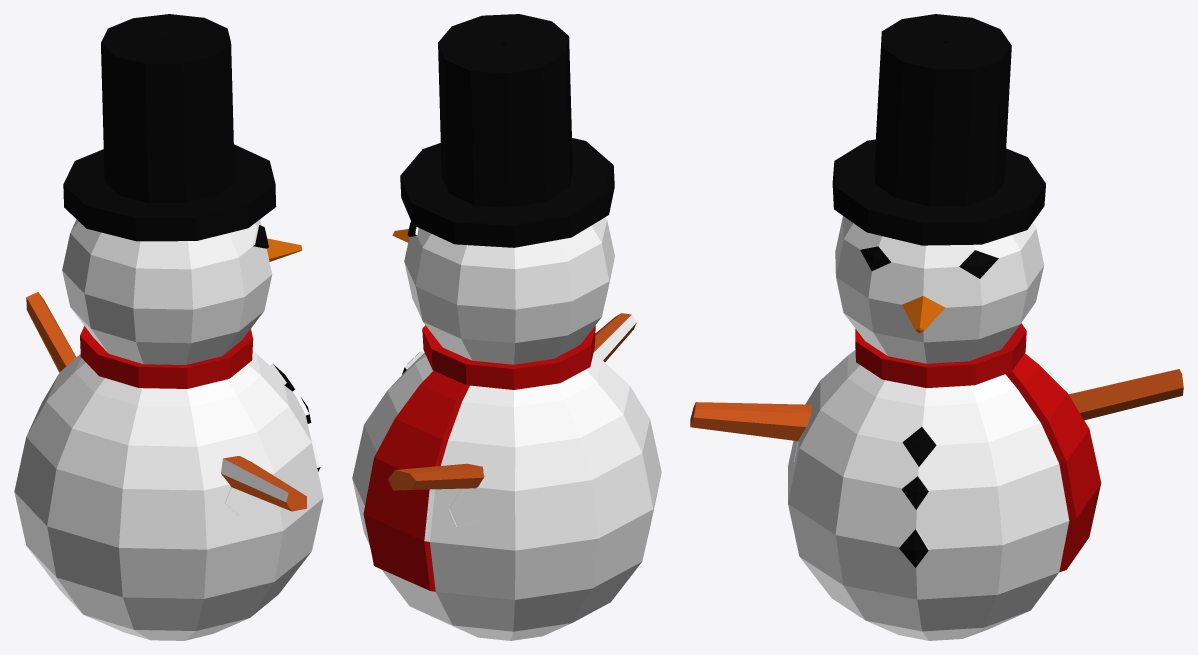
Rendered from snowman.obj.
3 views of the same model, side by side, from view 1: azimuth 30°, elevation 25°; view 2: azimuth 150°, elevation 25°; view 3: azimuth 270°, elevation 25° (orthographic).
Visible parts, largest first — view 1: Сфера; view 2: Сфера; view 3: Сфера.
Boxes of the visible parts, bbox=[...] form: Сфера: bbox=[14, 14, 323, 640]; Сфера: bbox=[352, 14, 661, 640]; Сфера: bbox=[690, 14, 1183, 640].
Size of the model in its own units: 2.01 by 4.07 by 3.16.
